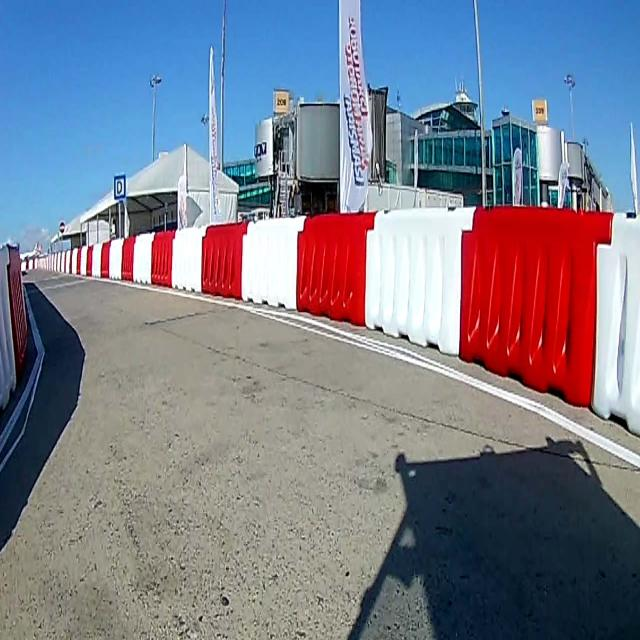durak: (114, 173, 126, 200)
